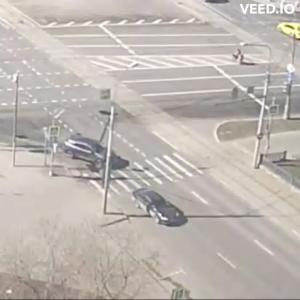car: (134, 189, 189, 228), (62, 135, 116, 169)
